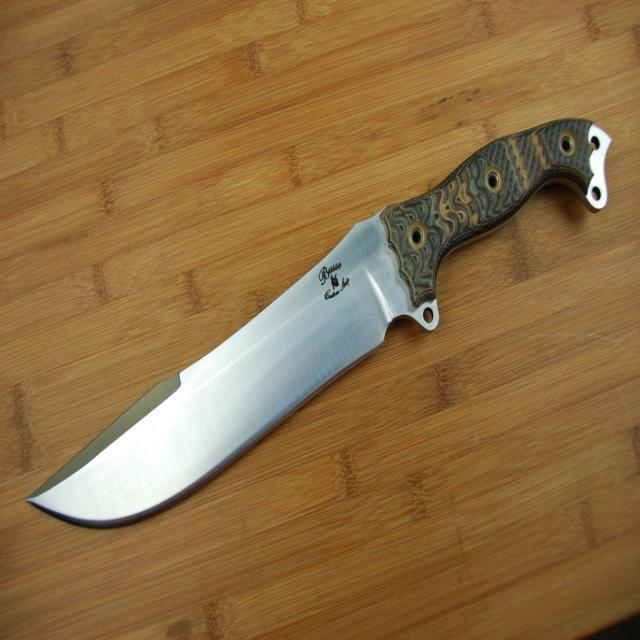Knife: (29, 119, 610, 526)
